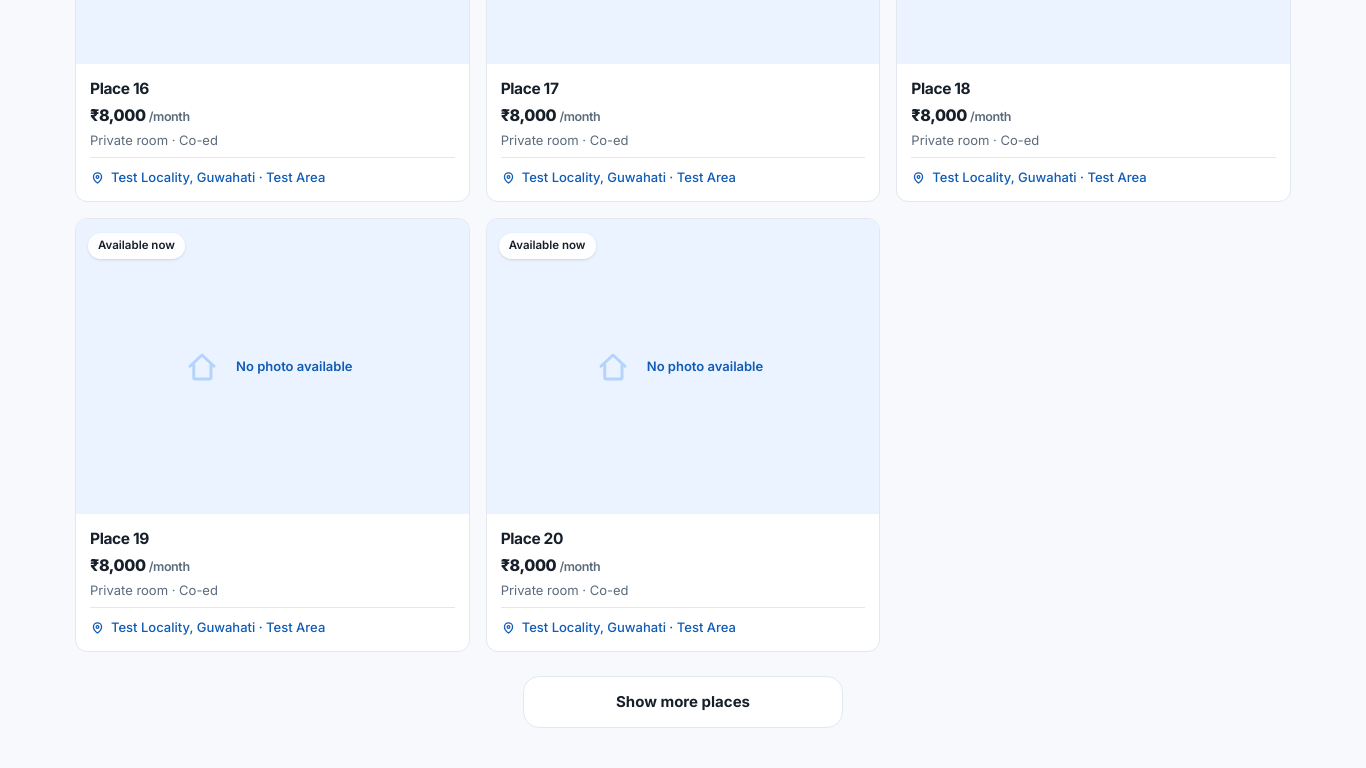
public browse page › appends the next page and then stops
The width and height of the screenshot is (1366, 768).
(page scrolled)
What coordinates should you click on to do the following:
click the button "Show more places"
I would click on:
 (683, 702)
Its box is [523,676,843,728].
(page scrolled)
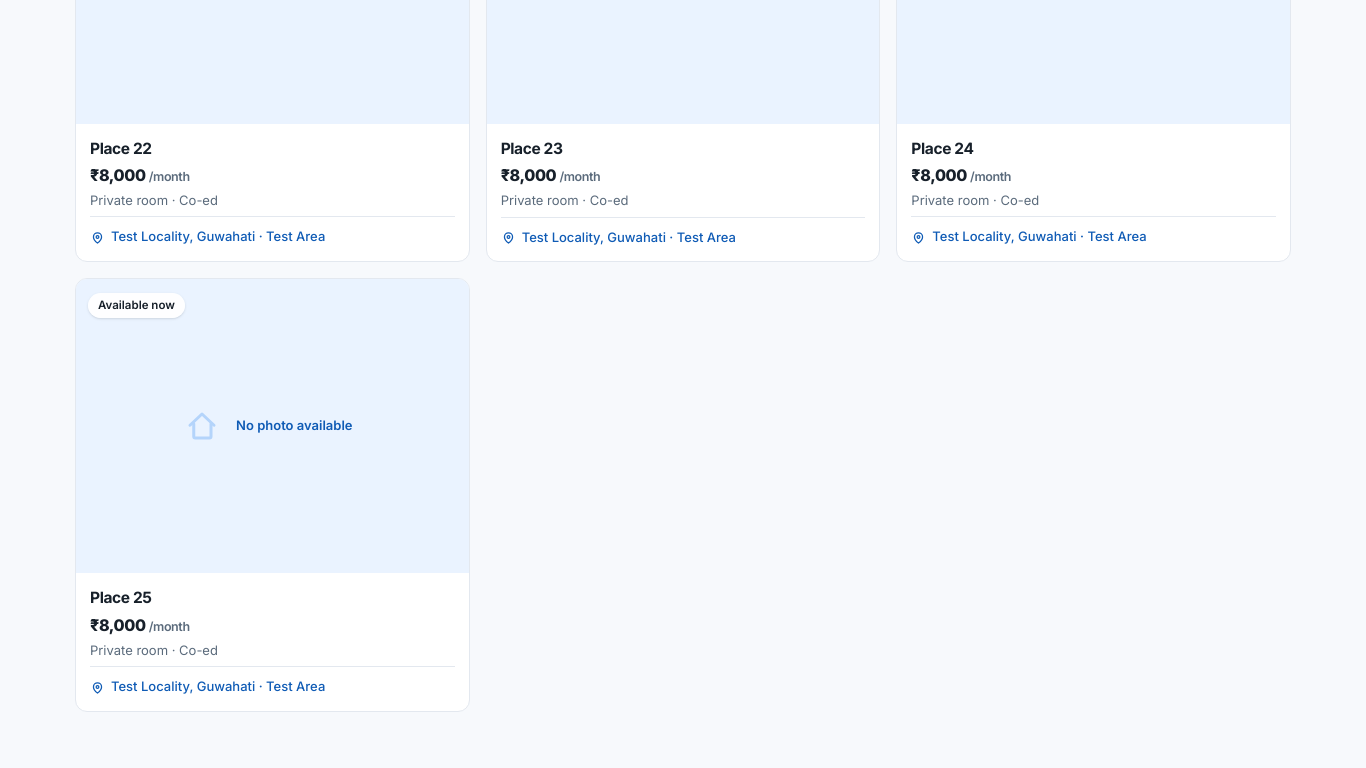
Expected: the heading "Place 25" is shown, [90,588,152,608]
Expected: the button "Show more places" is gone
